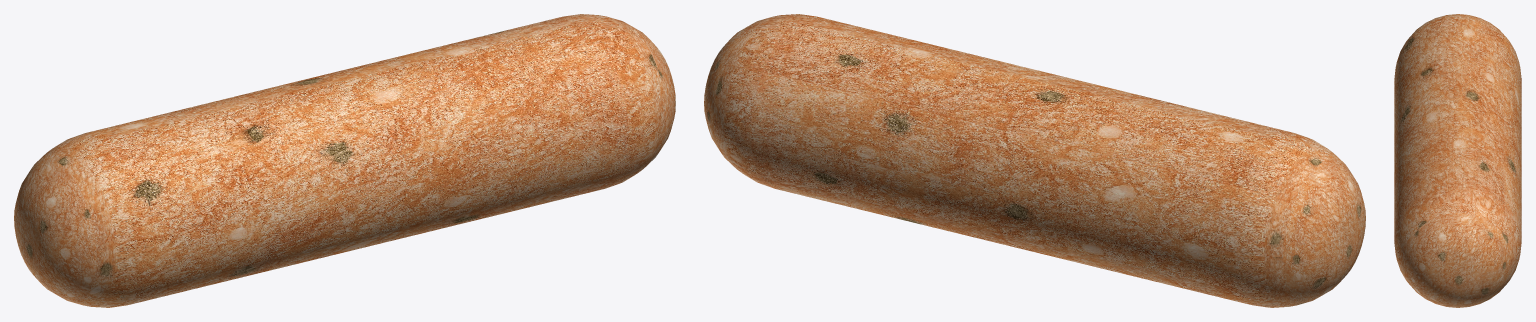
Rendered from sausage.fbx.
3 views of the same model, side by side, from view 1: azimuth 30°, elevation 25°; view 2: azimuth 150°, elevation 25°; view 3: azimuth 270°, elevation 25° (orthographic). The views are drawn at different scales.
Visible parts, largest first — view 1: Doi Sun; view 2: Doi Sun; view 3: Doi Sun.
Boxes of the visible parts, x1,y1,x2,y2 form: Doi Sun: (14,14,675,307); Doi Sun: (704,14,1365,307); Doi Sun: (1394,14,1521,307).
Size of the model in its own units: 23.95 by 5.87 by 5.87.
1 material, 1 textured.
